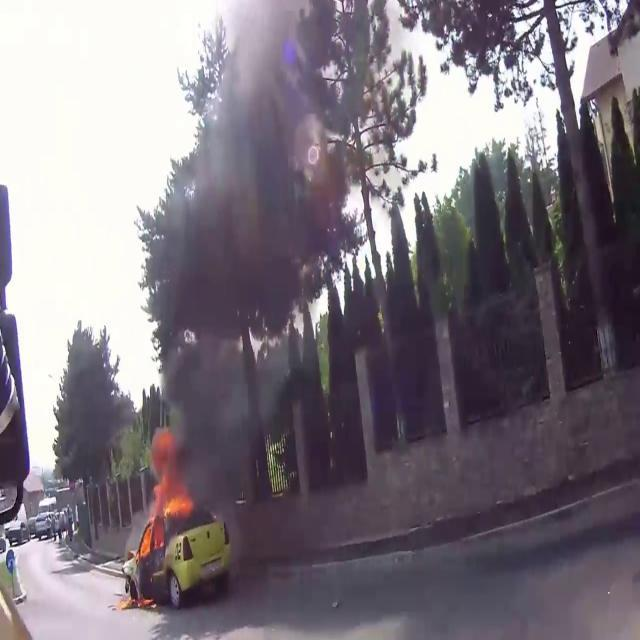Fire: (151, 472, 204, 533)
Smoke: (146, 2, 355, 494)
